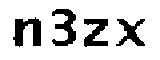3: (48, 4, 76, 48)
n: (8, 15, 43, 50)
x: (110, 15, 150, 50)
z: (78, 15, 110, 50)
